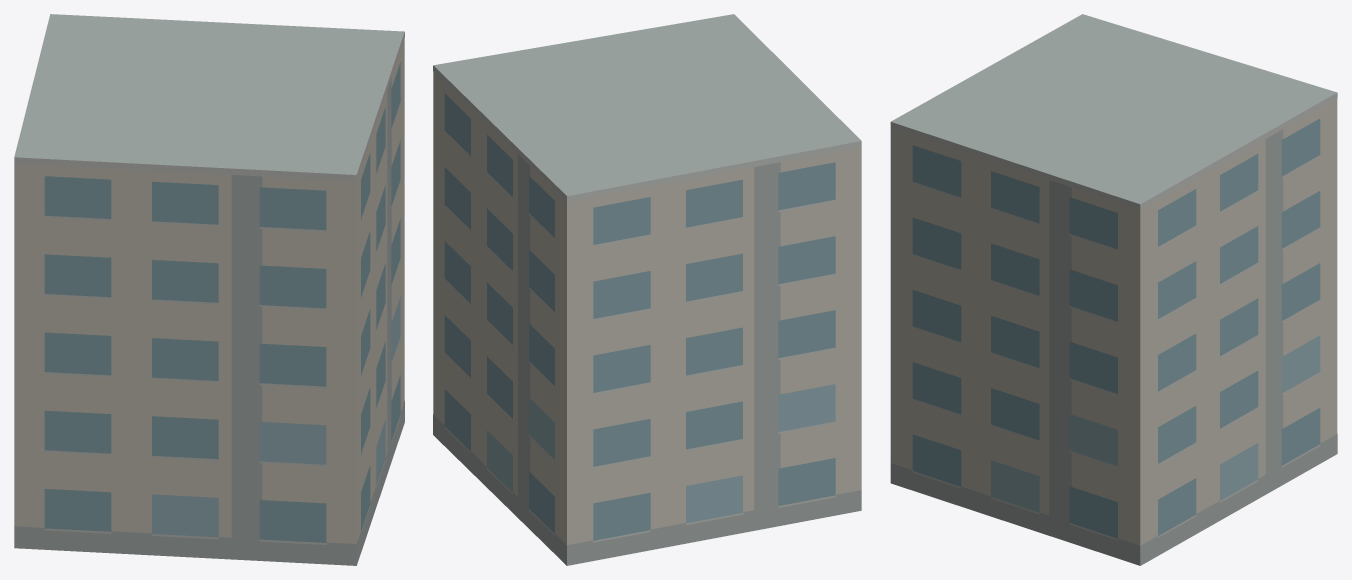
Rendered from survey-upis-32635608.glb.
3 renders of one model, left to right at view 1: azimuth 30°, elevation 25°; view 2: azimuth 150°, elevation 25°; view 3: azimuth 270°, elevation 25°, orthographic. The views are drawn at different scales.
Visible parts, largest first — view 1: survey-upis-32635608.tmp; view 2: survey-upis-32635608.tmp; view 3: survey-upis-32635608.tmp.
Part boxes in pixels (bbox=[...]): survey-upis-32635608.tmp: bbox=[14, 14, 404, 565]; survey-upis-32635608.tmp: bbox=[433, 14, 861, 565]; survey-upis-32635608.tmp: bbox=[890, 14, 1337, 565].
Size of the model in its own units: 17.06 by 15.1 by 16.92.
